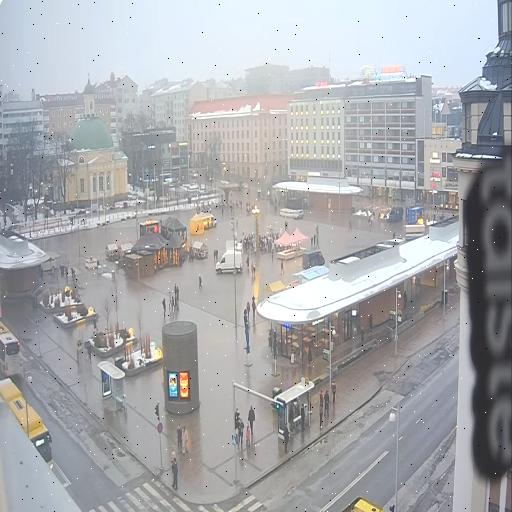Bus: (0, 378, 53, 467), (0, 321, 23, 376), (341, 497, 383, 511)
